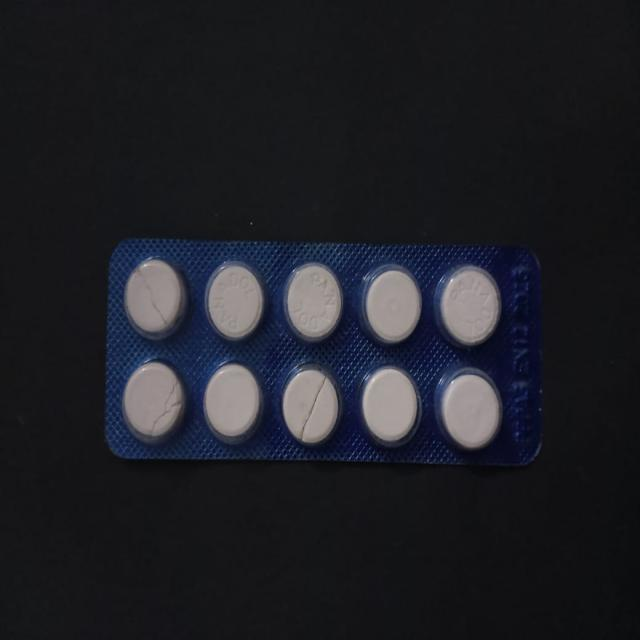defect: (120, 355, 190, 451), (121, 255, 188, 342), (280, 365, 343, 448)
